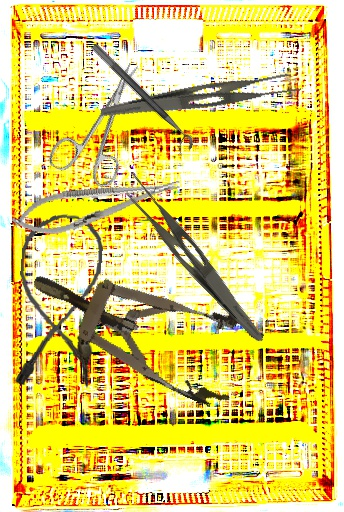Cannula: (10, 210, 106, 392)
Dressing Forceps: (109, 168, 283, 345), (99, 61, 303, 140)
Fixation Ring: (82, 41, 198, 158)
Iris Scissors: (45, 49, 167, 195)
Needle Holder: (7, 165, 186, 244)
Speculum: (16, 234, 268, 416)
